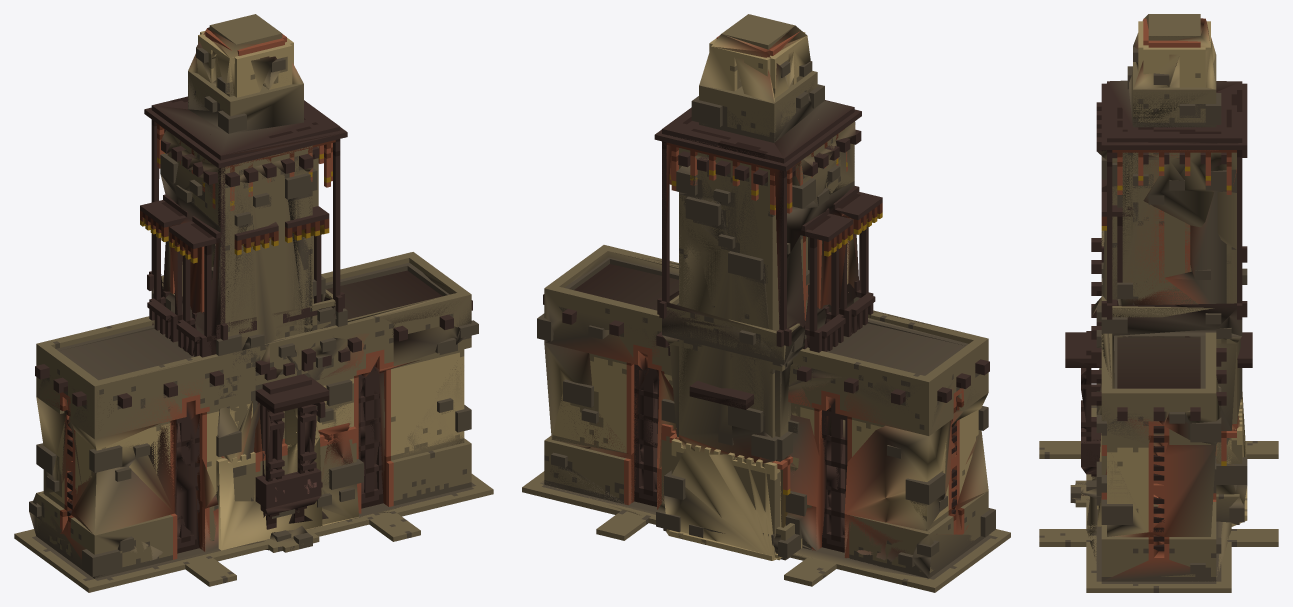
File: voxel.glb
3 views of the same model, side by side, from view 1: azimuth 30°, elevation 25°; view 2: azimuth 150°, elevation 25°; view 3: azimuth 270°, elevation 25° (orthographic). The views are drawn at different scales.
Visible parts, largest first — view 1: LargeBuilding01, LargeBuilding01@lod, TallBuilding03, TallBuilding03@lod, TallBuilding02, TallBuilding02@lod, TallBuilding01, SmallBuilding03, SmallBuilding03@lod, SmallBuilding01, TinyBuilding01; view 2: LargeBuilding01, LargeBuilding01@lod, TallBuilding01@lod, TallBuilding01, TallBuilding02, TallBuilding02@lod, TallBuilding03, TallBuilding03@lod, SmallBuilding01, SmallBuilding01@lod, SmallBuilding04, SmallBuilding03; view 3: LargeBuilding01, TallBuilding02, LargeBuilding01@lod, TallBuilding02@lod, TallBuilding01, TallBuilding01@lod, SmallBuilding01, TallBuilding03, SmallBuilding01@lod, TallBuilding03@lod, SmallBuilding04@lod, SmallBuilding03 (+1 smaller).
Boxes of the visible parts, left/top/right/bottom form: LargeBuilding01: left=14, top=252, right=493, bottom=592; LargeBuilding01@lod: left=16, top=257, right=471, bottom=578; TallBuilding03: left=140, top=140, right=319, bottom=527; TallBuilding03@lod: left=142, top=130, right=322, bottom=550; TallBuilding02: left=144, top=14, right=347, bottom=552; TallBuilding02@lod: left=152, top=27, right=346, bottom=546; TallBuilding01: left=164, top=129, right=329, bottom=552; SmallBuilding03: left=255, top=350, right=363, bottom=541; SmallBuilding03@lod: left=254, top=346, right=358, bottom=524; SmallBuilding01: left=147, top=275, right=347, bottom=552; TinyBuilding01: left=250, top=307, right=311, bottom=515; LargeBuilding01: left=522, top=245, right=1010, bottom=592; LargeBuilding01@lod: left=524, top=245, right=988, bottom=587; TallBuilding01@lod: left=664, top=148, right=809, bottom=560; TallBuilding01: left=664, top=148, right=809, bottom=560; TallBuilding02: left=654, top=14, right=861, bottom=560; TallBuilding02@lod: left=662, top=25, right=856, bottom=534; TallBuilding03: left=785, top=122, right=882, bottom=516; TallBuilding03@lod: left=787, top=121, right=872, bottom=548; SmallBuilding01: left=657, top=286, right=859, bottom=560; SmallBuilding01@lod: left=662, top=299, right=853, bottom=560; SmallBuilding04: left=656, top=500, right=800, bottom=559; SmallBuilding03: left=661, top=345, right=676, bottom=501; LargeBuilding01: left=1039, top=230, right=1278, bottom=592; TallBuilding02: left=1073, top=14, right=1247, bottom=512; LargeBuilding01@lod: left=1065, top=231, right=1231, bottom=585; TallBuilding02@lod: left=1072, top=14, right=1246, bottom=514; TallBuilding01: left=1070, top=150, right=1247, bottom=519; TallBuilding01@lod: left=1081, top=152, right=1247, bottom=503; SmallBuilding01: left=1070, top=253, right=1247, bottom=519; TallBuilding03: left=1096, top=102, right=1189, bottom=337; SmallBuilding01@lod: left=1073, top=308, right=1246, bottom=526; TallBuilding03@lod: left=1097, top=150, right=1117, bottom=509; SmallBuilding04@lod: left=1216, top=496, right=1244, bottom=522; SmallBuilding03: left=1096, top=321, right=1221, bottom=495.
Bounding box in the file's own units: 8.8 × 10 × 4.6.
